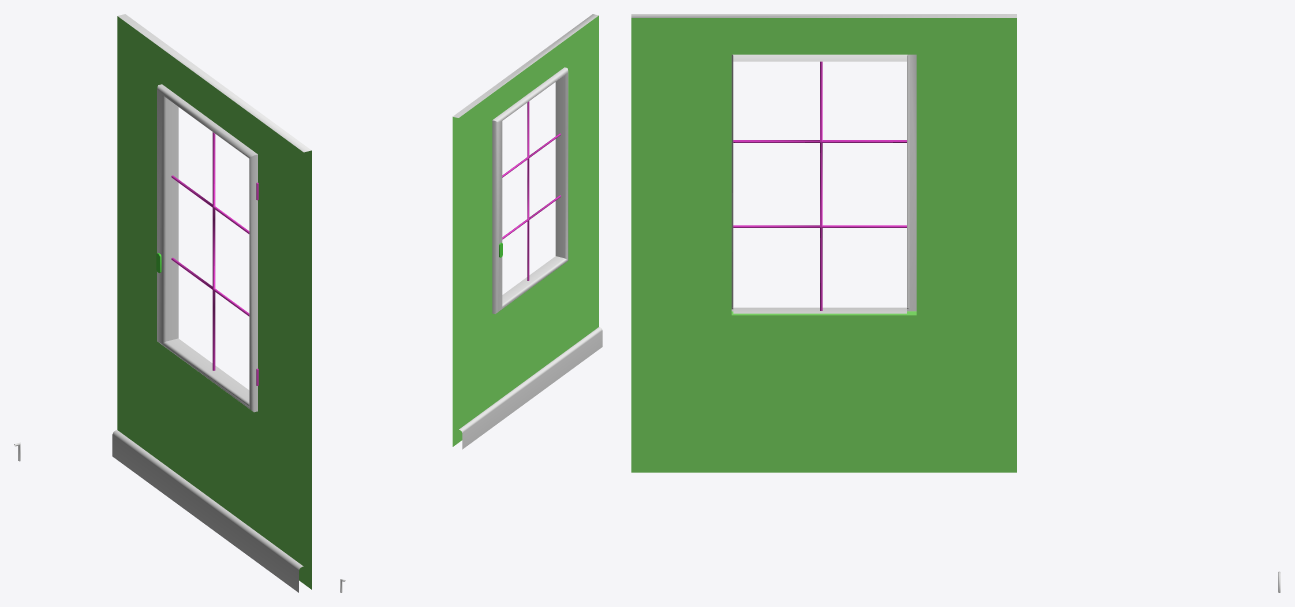
The model's file is wall_window_02.fbx.
3 views of the same model, side by side, from view 1: azimuth 30°, elevation 25°; view 2: azimuth 150°, elevation 25°; view 3: azimuth 270°, elevation 25° (orthographic). The views are drawn at different scales.
Parts seen in each view (by area): view 1: wall_big_window_01, big_window_01; view 2: wall_big_window_01, big_window_01; view 3: wall_big_window_01, big_window_01.
Boxes of the visible parts, <box> form: wall_big_window_01: <box>112,14,311,592</box>; big_window_01: <box>156,84,258,412</box>; wall_big_window_01: <box>452,14,602,449</box>; big_window_01: <box>492,67,568,313</box>; wall_big_window_01: <box>631,14,1016,472</box>; big_window_01: <box>731,54,916,313</box>.
Size of the model in its own units: 0.2375 by 3.22 by 3.37.
